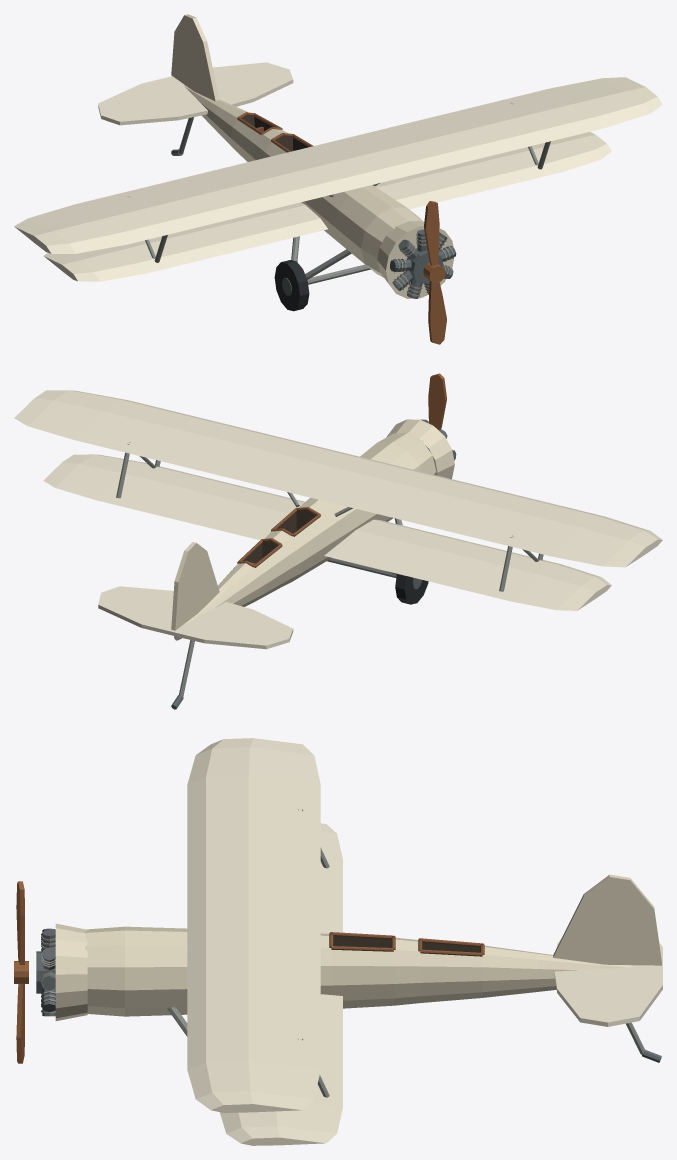
The model's file is NuD36_LowPoly.fbx.
The picture shows the model from 3 angles, top to bottom: view 1: azimuth 30°, elevation 25°; view 2: azimuth 150°, elevation 25°; view 3: azimuth 270°, elevation 25°; orthographic projection. The views are drawn at different scales.
Parts seen in each view (by area): view 1: UpperWing, LowerWing, Fuselage, HorizontalStabilizer, VerticalStabilizer, Pervane, Engine_Cowling, LandingGear_Wheel_Left, Engine_Crankcase; view 2: UpperWing, LowerWing, Fuselage, HorizontalStabilizer, VerticalStabilizer, Engine_Cowling, Pervane, LandingGear_Wheel_Left; view 3: UpperWing, Fuselage, LowerWing, VerticalStabilizer, HorizontalStabilizer, Engine_Cowling, Pervane.
Part boxes in pixels (bbox=[...]): UpperWing: bbox=[14, 77, 662, 253]; LowerWing: bbox=[43, 132, 611, 281]; Fuselage: bbox=[183, 84, 424, 277]; HorizontalStabilizer: bbox=[98, 62, 293, 125]; VerticalStabilizer: bbox=[171, 14, 219, 101]; Pervane: bbox=[423, 201, 446, 344]; Engine_Cowling: bbox=[377, 220, 454, 298]; LandingGear_Wheel_Left: bbox=[274, 260, 309, 311]; Engine_Crankcase: bbox=[407, 248, 443, 283]; UpperWing: bbox=[14, 390, 662, 567]; LowerWing: bbox=[43, 454, 611, 610]; Fuselage: bbox=[174, 432, 436, 640]; HorizontalStabilizer: bbox=[98, 586, 293, 649]; VerticalStabilizer: bbox=[171, 542, 219, 630]; Engine_Cowling: bbox=[386, 419, 454, 478]; Pervane: bbox=[428, 373, 446, 429]; LandingGear_Wheel_Left: bbox=[395, 573, 428, 604]; UpperWing: bbox=[187, 738, 320, 1112]; Fuselage: bbox=[85, 926, 637, 1016]; LowerWing: bbox=[220, 823, 342, 1145]; VerticalStabilizer: bbox=[553, 874, 661, 965]; HorizontalStabilizer: bbox=[554, 938, 662, 1026]; Engine_Cowling: bbox=[55, 923, 87, 1020]; Pervane: bbox=[14, 881, 28, 1063].
Bounding box in the file's own units: 974 × 244 × 730.
